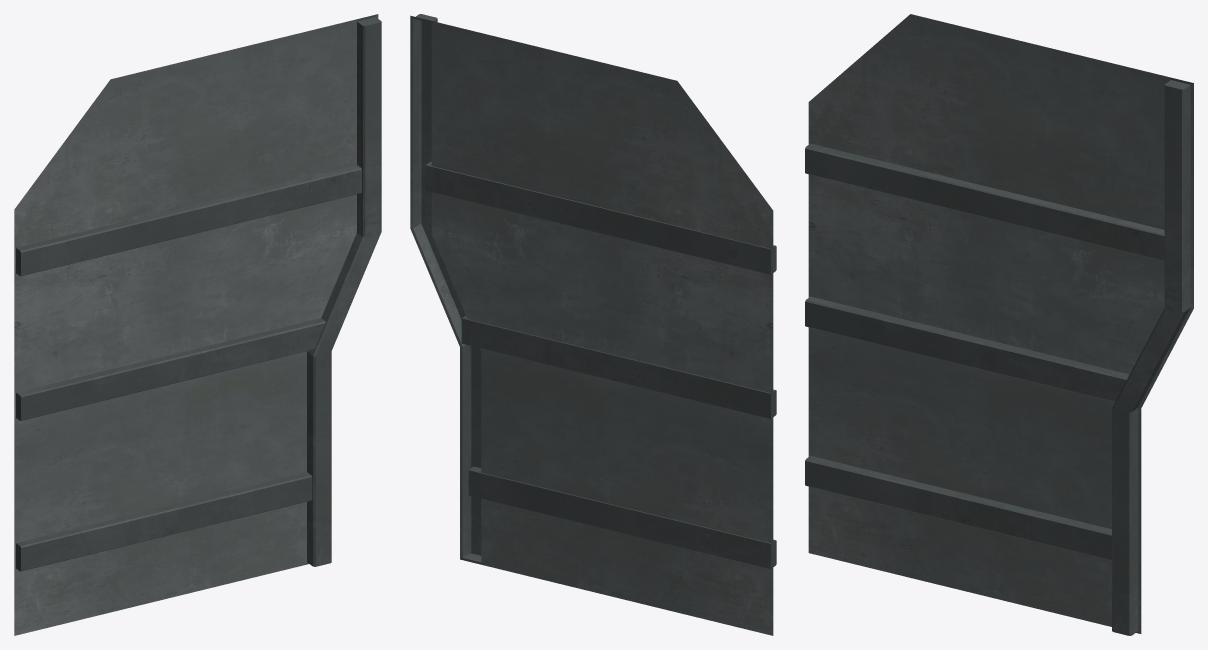
The model's file is PuertaAlienPanelIzquierdo.obj.
3 views of the same model, side by side, from view 1: azimuth 30°, elevation 25°; view 2: azimuth 150°, elevation 25°; view 3: azimuth 330°, elevation 25° (orthographic). The views are drawn at different scales.
Parts seen in each view (by area): view 1: Plane_Material.004; view 2: Plane_Material.004; view 3: Plane_Material.004.
Part boxes in pixels (x1,y1,x2,y2): Plane_Material.004: (14, 14, 381, 635); Plane_Material.004: (410, 14, 776, 635); Plane_Material.004: (805, 14, 1193, 635).
Size of the model in its own units: 5.36 by 7.5 by 0.195.
